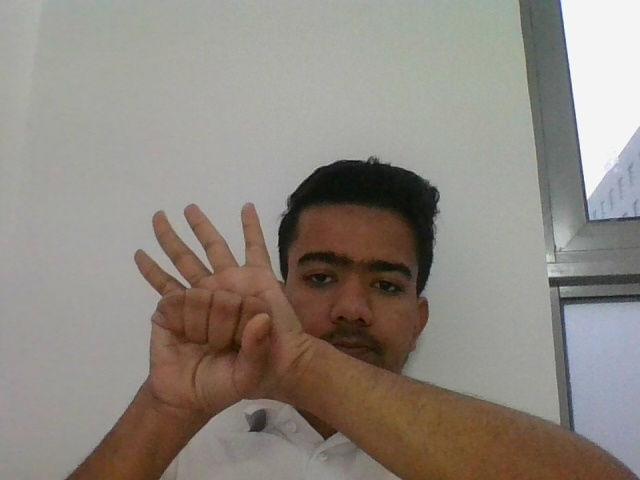coronavirus: (132, 199, 300, 411)
